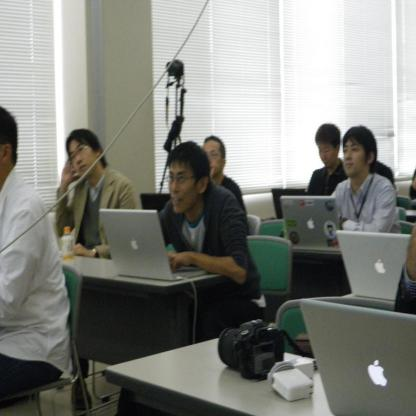board: (290, 294, 412, 410), (98, 210, 209, 281), (335, 232, 411, 300), (279, 195, 341, 252), (272, 188, 310, 217)
